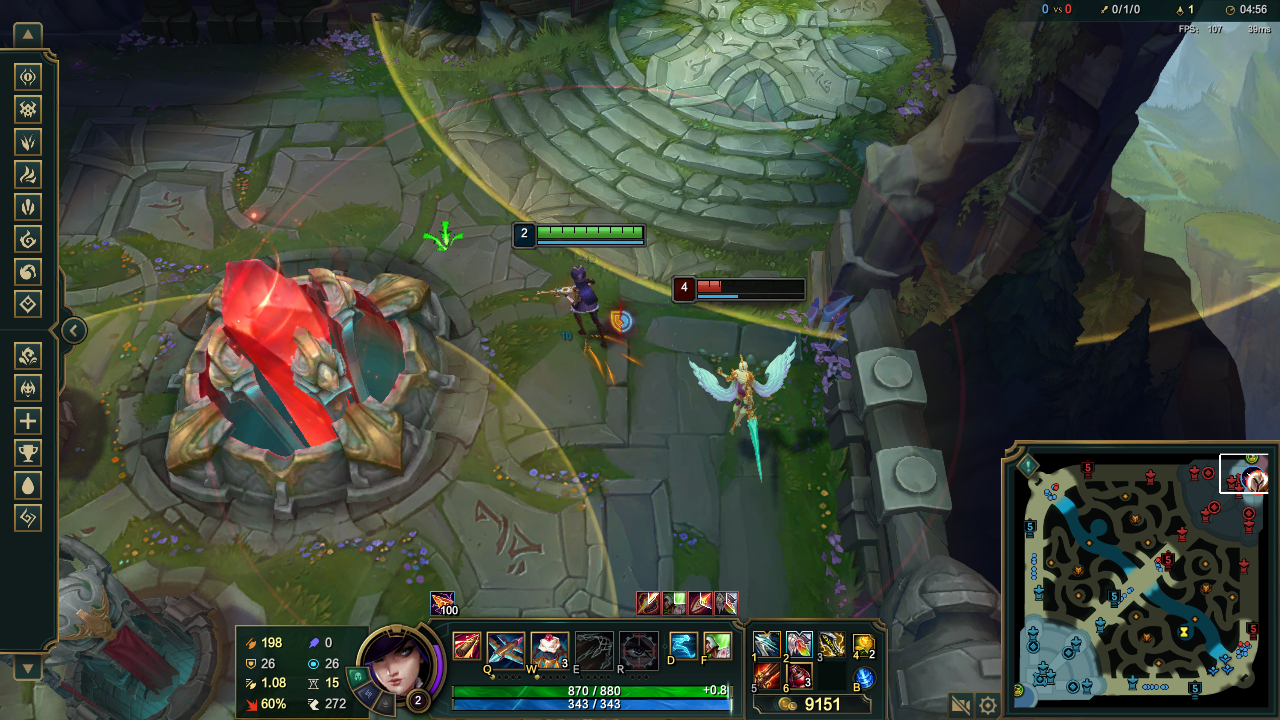DFDSJ: (146, 262, 439, 476)
DFYX: (695, 279, 805, 292)
